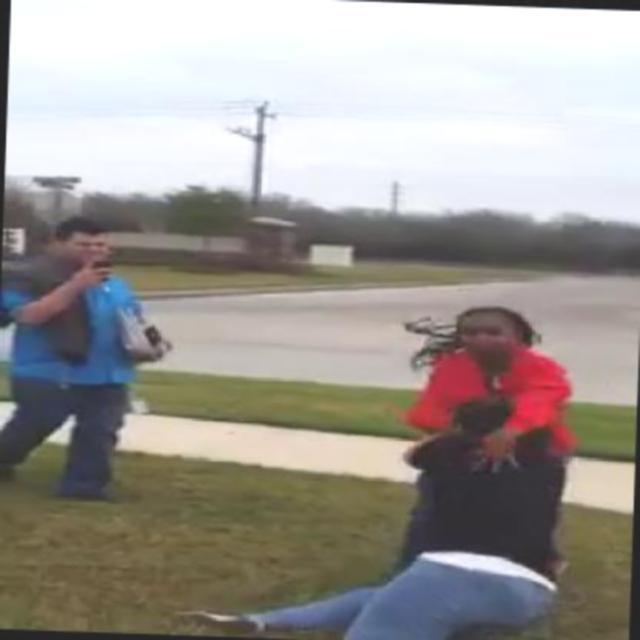fight: (368, 300, 584, 634)
non-fight: (0, 210, 178, 507)
